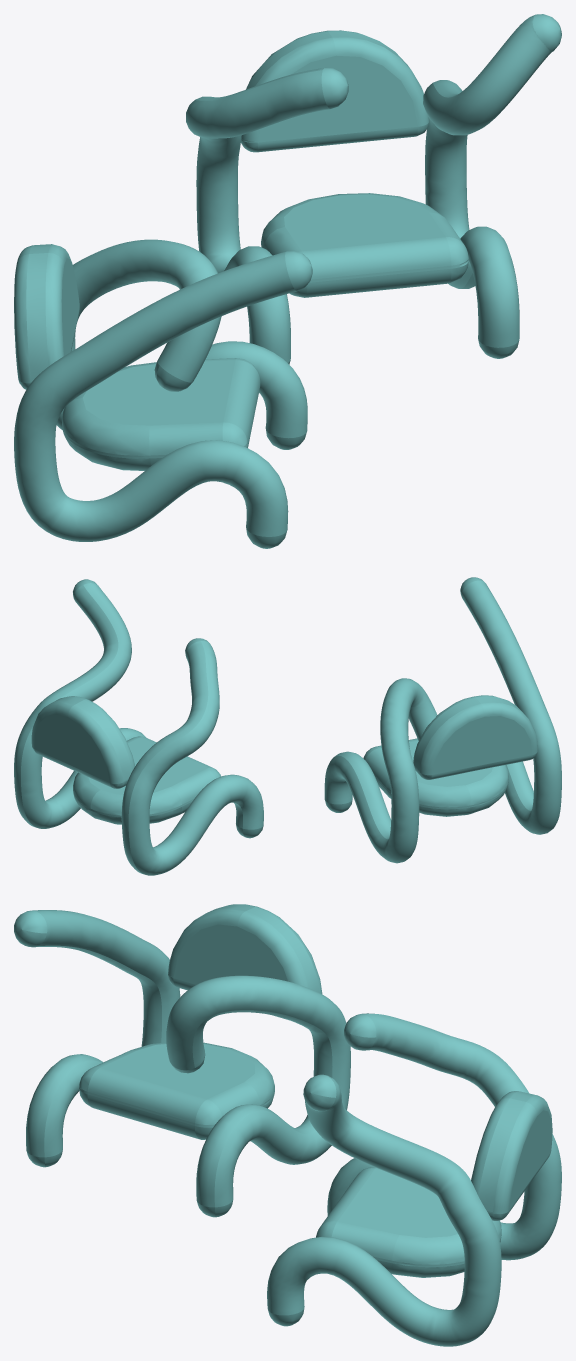
File: Project 03_Chummy Chair.glb
3 views of the same model, one above another, from view 1: azimuth 30°, elevation 25°; view 2: azimuth 150°, elevation 25°; view 3: azimuth 270°, elevation 25° (orthographic). The views are drawn at different scales.
Size of the model in its own units: 1.08 by 0.5078 by 0.9165.
